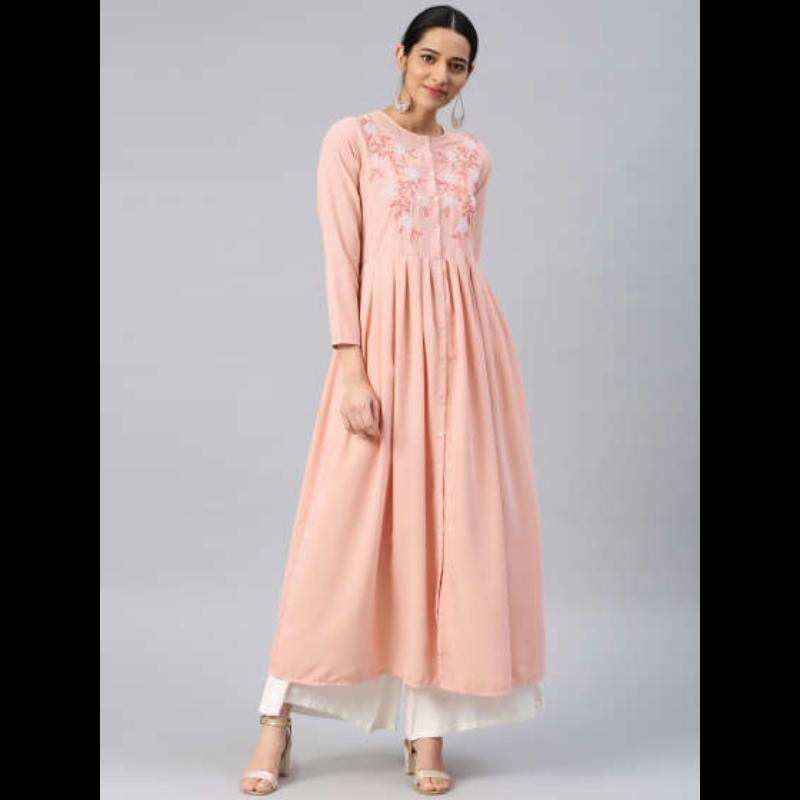Churidaar: (249, 108, 557, 731)
